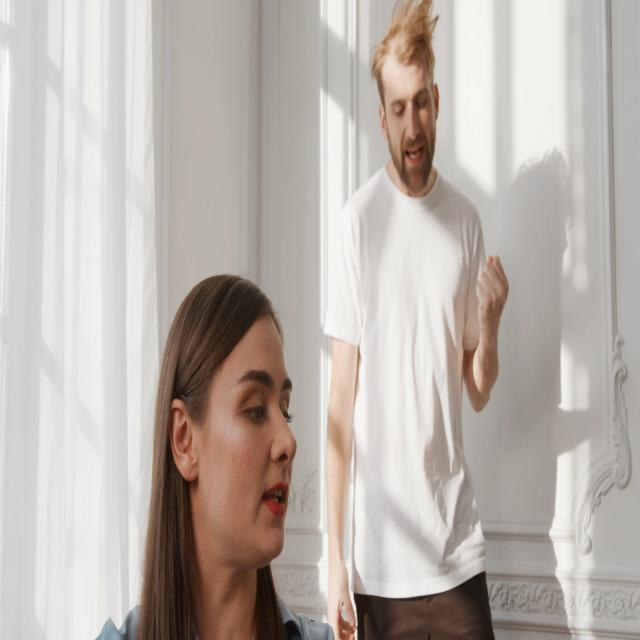angry: (367, 8, 466, 231)
satisfied: (164, 266, 323, 588)
